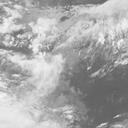cyclone: (24, 49, 72, 98)
